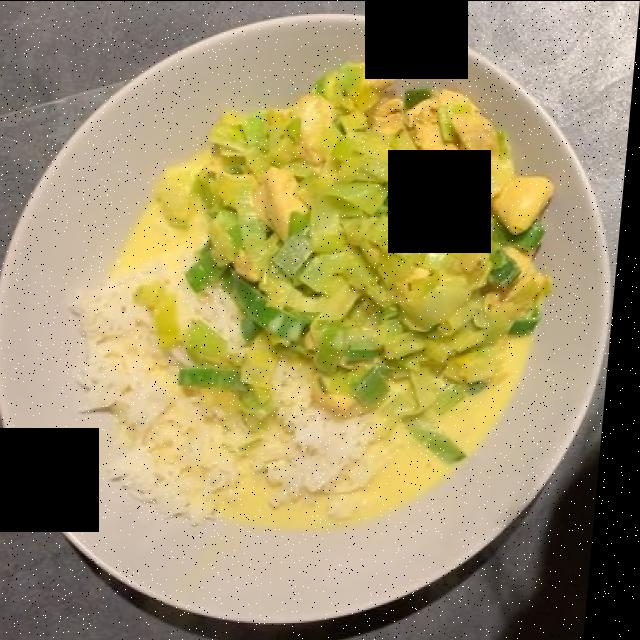chicken-curry-cream-coconut-milk-curry-spices-paste: (158, 71, 551, 542)
rice-basmati: (48, 233, 390, 546)
